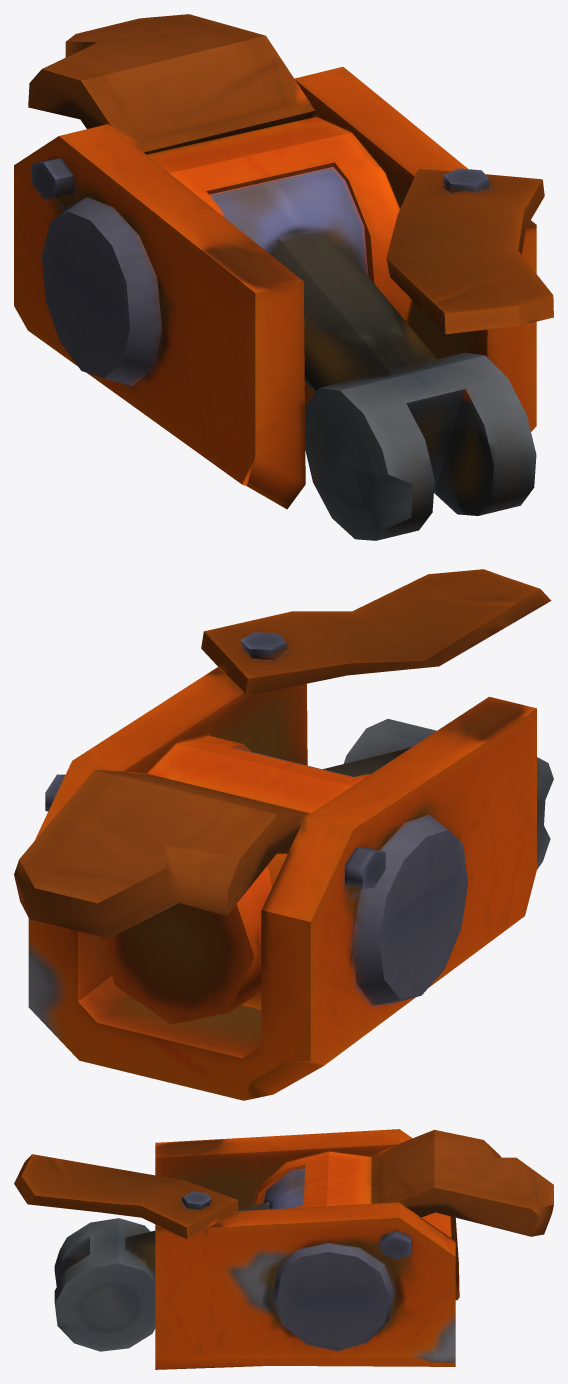
Rendered from p_mesh_refinery_scrapmetal_finnishchunk_end02.fbx.
The picture shows the model from 3 angles, top to bottom: view 1: azimuth 30°, elevation 25°; view 2: azimuth 150°, elevation 25°; view 3: azimuth 270°, elevation 25°; orthographic projection. The views are drawn at different scales.
Visible parts, largest first — view 1: polySurface10; view 2: polySurface10; view 3: polySurface10.
Boxes of the visible parts, box(x1,y1,x2,y2) form: polySurface10: box(14, 14, 553, 540); polySurface10: box(14, 569, 553, 1100); polySurface10: box(14, 1129, 553, 1369).
Bounding box in the file's own units: 1.19 × 0.9407 × 2.53.
Materials: 1 (1 with a texture image).
